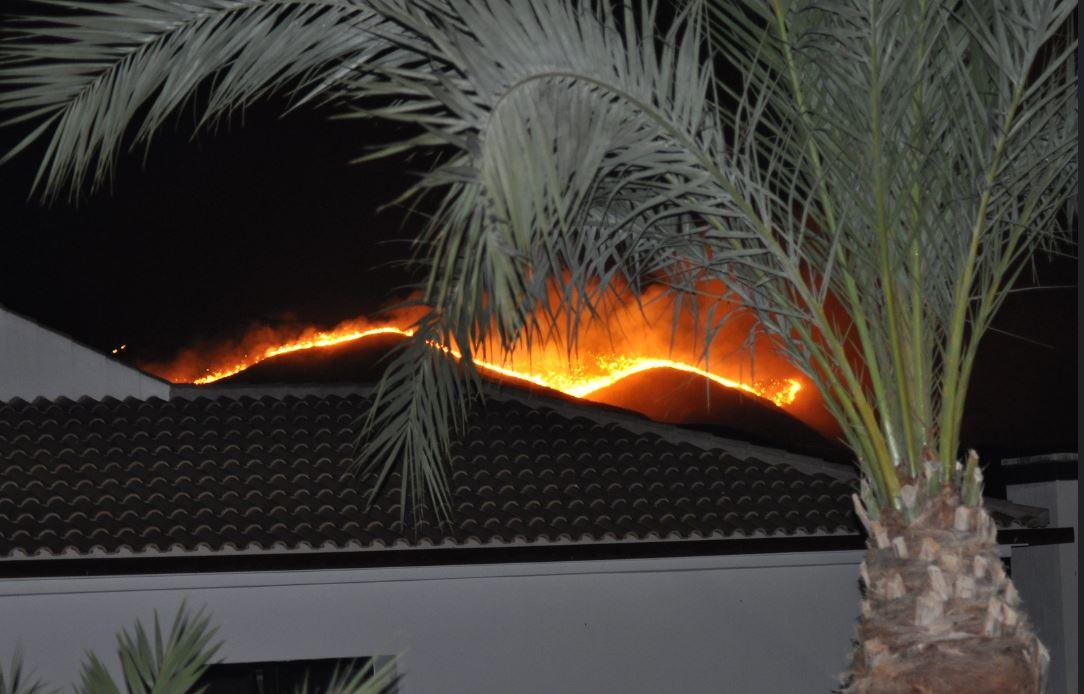fire: (436, 316, 801, 413), (170, 302, 407, 385)
